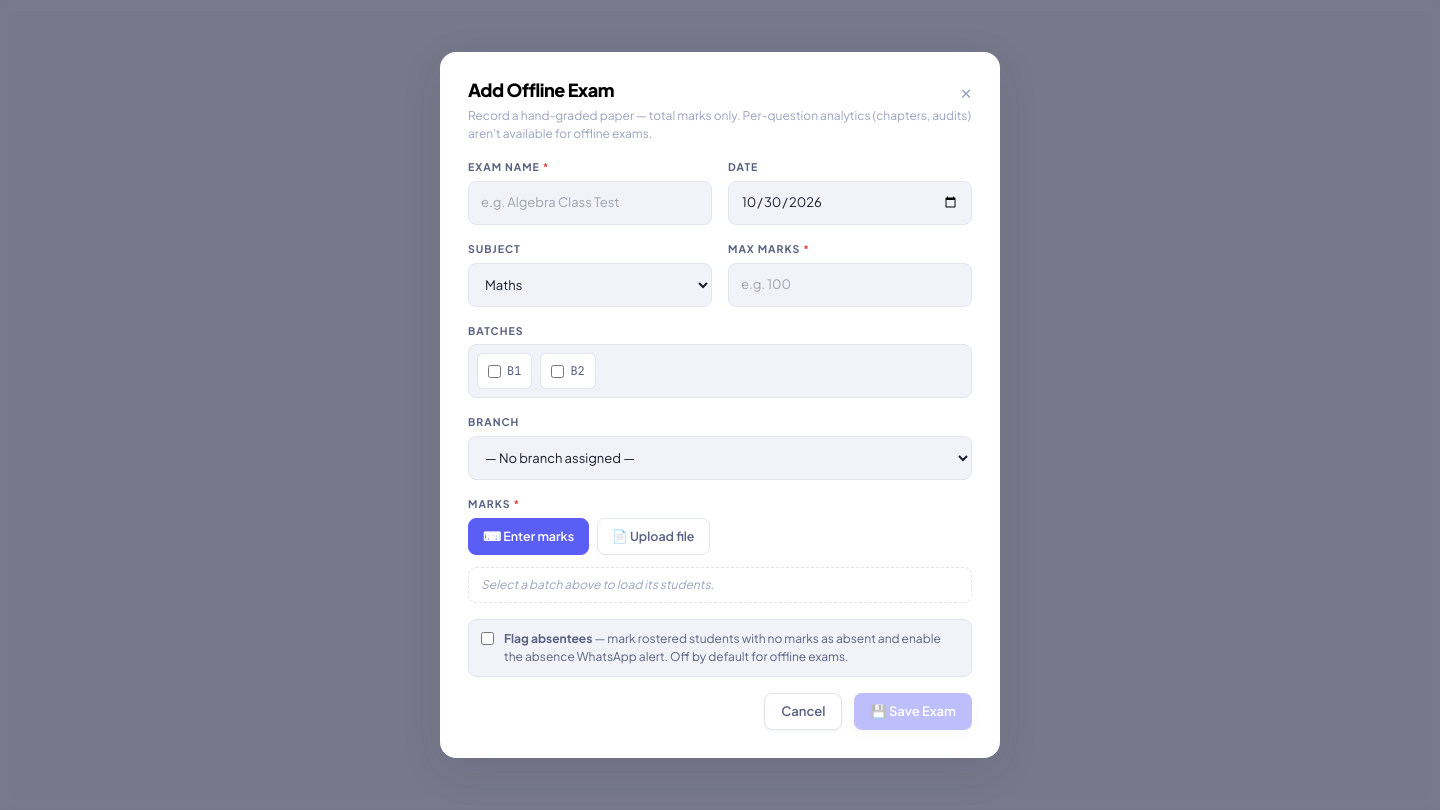
Test: OfflineExamModal — roster grid › shows an entered-count so faculty can see what is left
This screenshot has width=1440, height=810.
Click the checkbox labelled "B1" at point(494, 371), box [488,365,501,378]
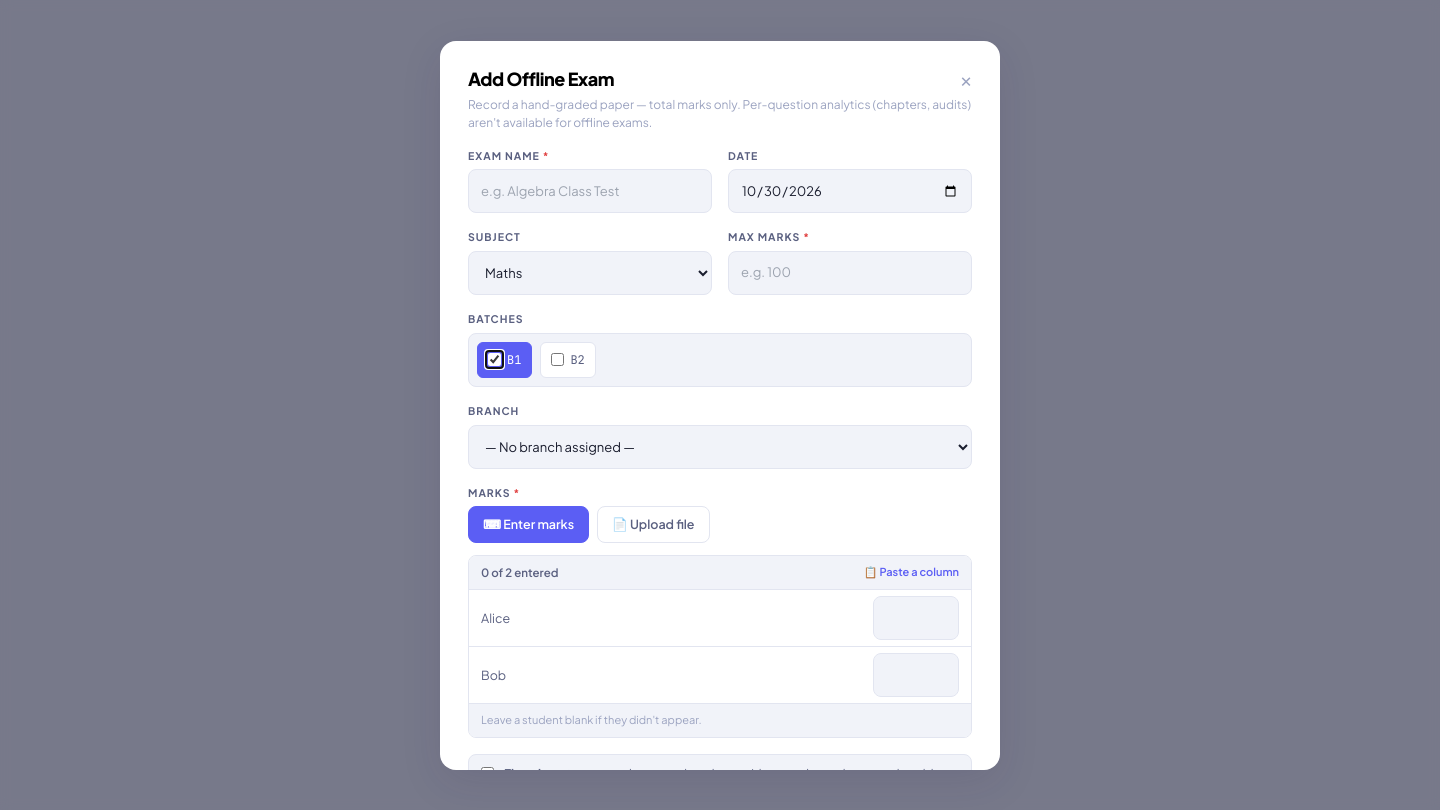
Result: the text "0 of 2 entered" is shown at [481,564,558,581]
Type "72" into the number field named "Marks for Alice" at point(916, 618), box [873,596,959,640]
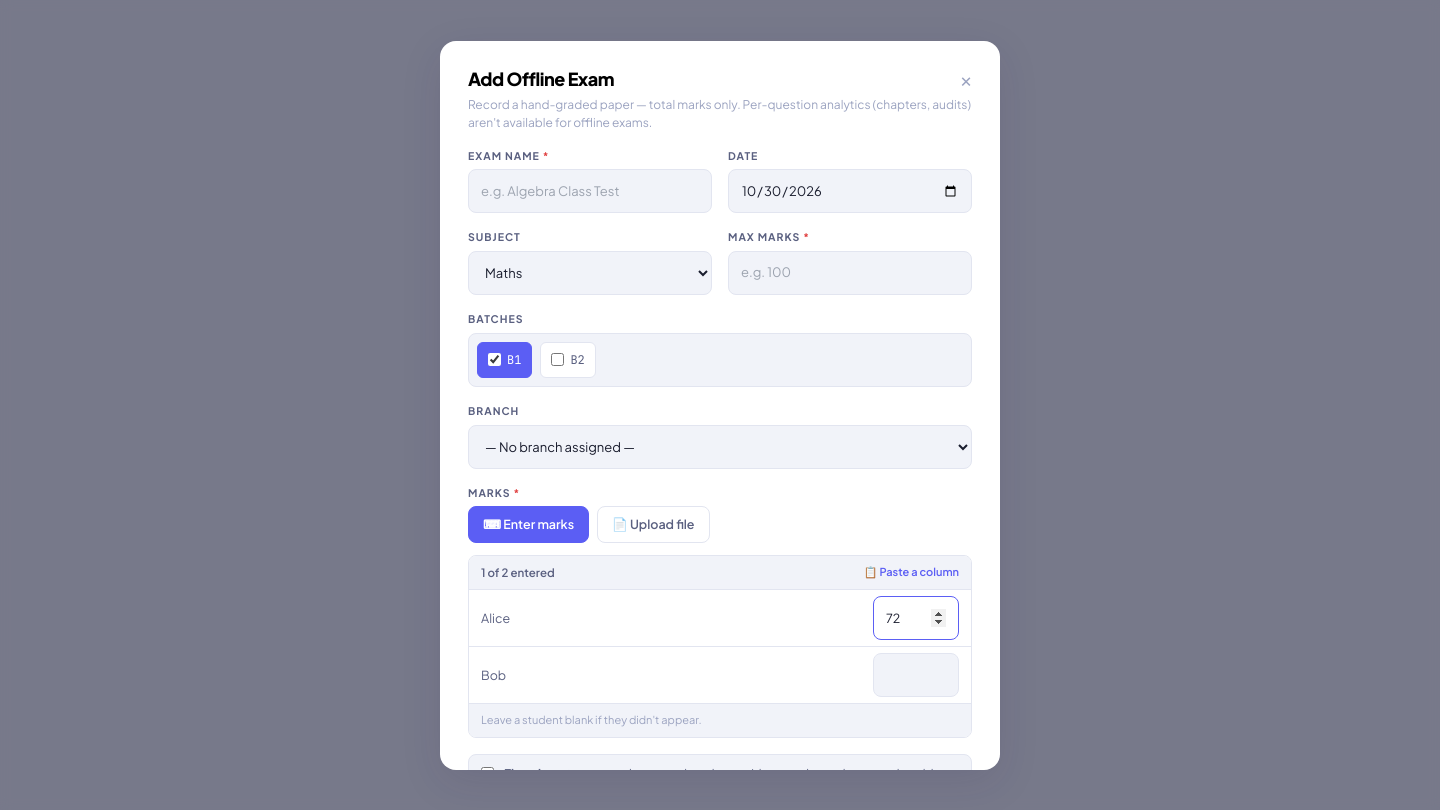
Result: the text "1 of 2 entered" is shown at [481,564,555,581]
